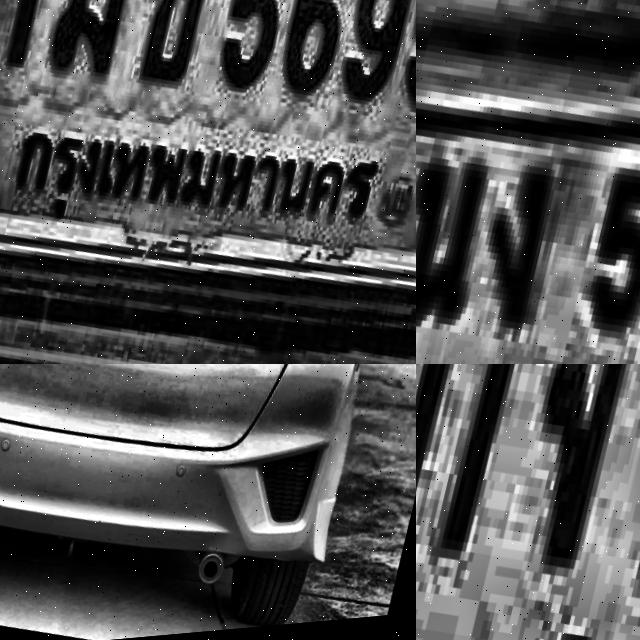license-plate: (0, 0, 416, 364), (416, 0, 640, 364), (416, 364, 640, 640)
